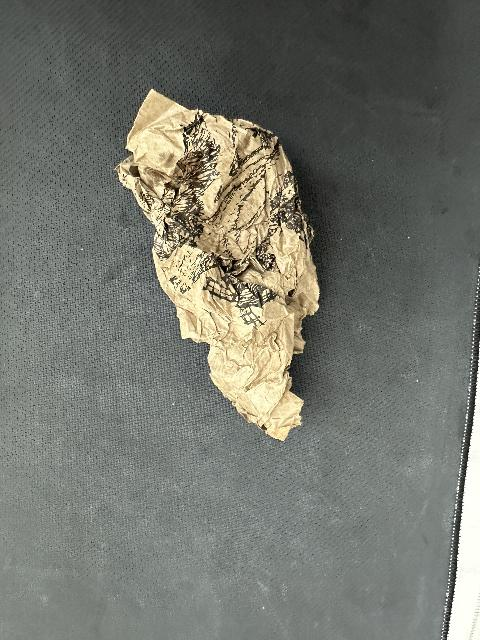Kagit: (110, 79, 329, 449), (290, 356, 312, 395), (175, 343, 193, 371)
